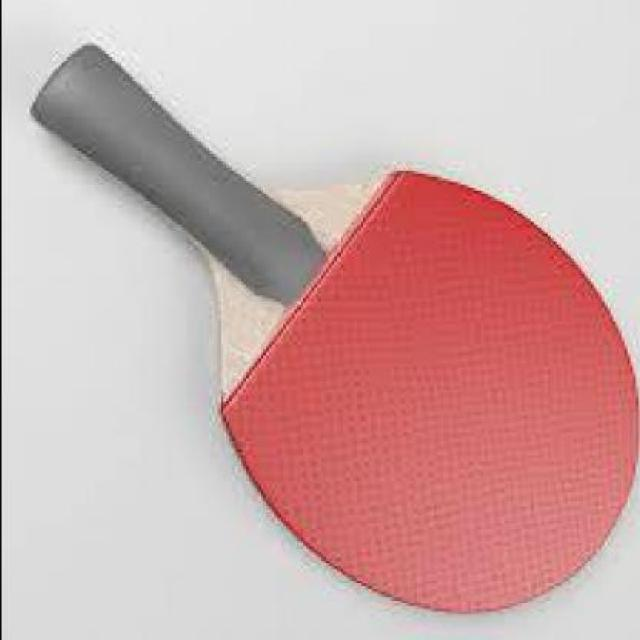table_tennis_racket: (210, 156, 638, 618)
